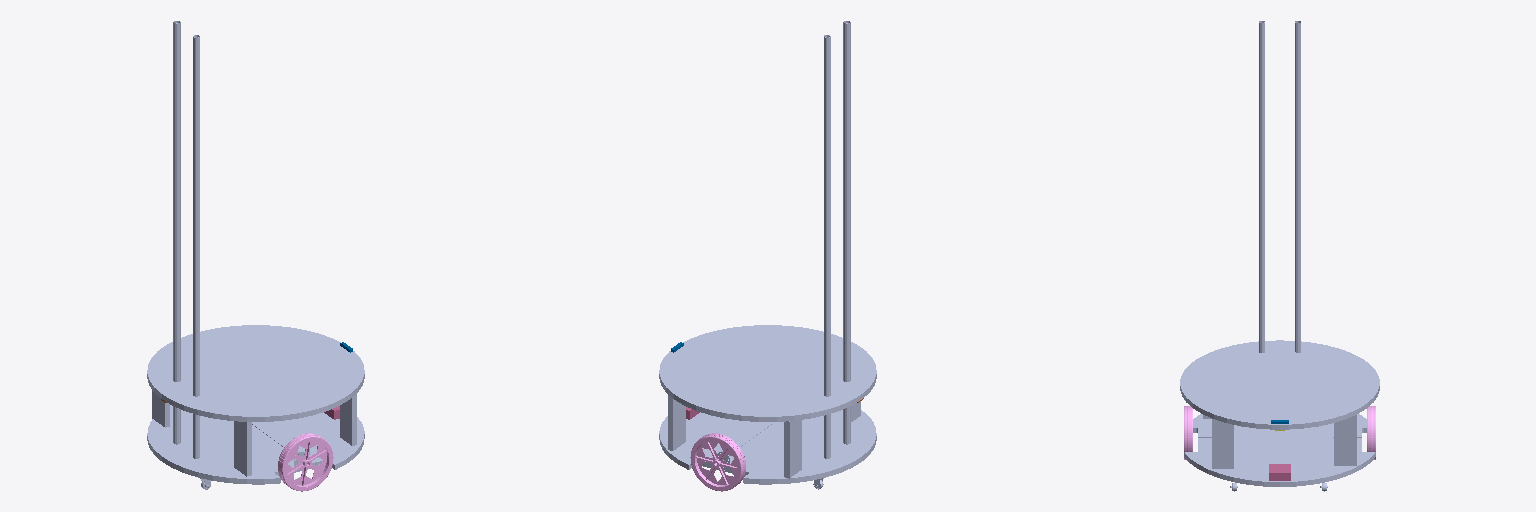
The robot description file, URDF, robot "mobile_rob_dev_sim":
<?xml version="1.0" encoding="utf-8"?>
<!-- This URDF was automatically created by SolidWorks to URDF Exporter! Originally created by [author] ([email redacted]) 
     Commit Version: 1.6.0-4-g7f85cfe  Build Version: 1.6.7995.38578
     For more information, please see http://wiki.ros.org/sw_urdf_exporter -->
<robot name="mobile_rob_dev_sim" xmlns:xacro="http://www.ros.org/wiki/xacro">
  <link
    name="base_link">
    <inertial>
      <origin
        xyz="-0.00461487870734328 0.000366188243899251 0.111305202476825"
        rpy="0 0 0"/>
      <mass
        value="8.01860580709809"/>
      <inertia
        ixx="0.156639319017219"
        ixy="1.11164438093558E-09"
        ixz="-2.73458344436832E-06"
        iyy="0.170503040844609"
        iyz="-3.90039384128734E-13"
        izz="0.273984906364084"/>
    </inertial>
    <visual>
      <origin
        xyz="0 0 0"
        rpy="0 0 0"/>
      <geometry>
        <mesh
          filename="package://mobile_rob_dev_sim/meshes/base_link.STL"/>
      </geometry>
      <material
        name="">
        <color
          rgba="0.792156862745098 0.819607843137255 0.933333333333333 1"/>
      </material>
    </visual>
    <collision>
      <origin
        xyz="0 0 0"
        rpy="0 0 0"/>
      <geometry>
        <mesh
          filename="package://mobile_rob_dev_sim/meshes/base_link.STL"/>
      </geometry>
    </collision>
  </link>
  <link
    name="left_wheel">
    <inertial>
      <origin
        xyz="0 0 0"
        rpy="0 0 0"/>
      <mass
        value="0.211162907036622"/>
      <inertia
        ixx="0.000475634940966531"
        ixy="1.03328518564722E-21"
        ixz="5.23183801417296E-19"
        iyy="0.000931261531604138"
        iyz="4.20387846548917E-21"
        izz="0.000475634940966532"/>
    </inertial>
    <visual>
      <origin
        xyz="0 0 0"
        rpy="0 0 0"/>
      <geometry>
        <mesh
          filename="package://mobile_rob_dev_sim/meshes/left_wheel.STL"/>
      </geometry>
      <material
        name="">
        <color
          rgba="1 0.752941176470588 1 1"/>
      </material>
    </visual>
    <collision>
      <origin
        xyz="0 0 0"
        rpy="0 0 0"/>
      <geometry>
        <mesh
          filename="package://mobile_rob_dev_sim/meshes/left_wheel.STL"/>
      </geometry>
    </collision>
  </link>
  <joint
    name="left_wheel_joint"
    type="continuous">
    <origin
      xyz="0 0.25563 0.035863"
      rpy="0 0 0"/>
    <parent
      link="base_link"/>
    <child
      link="left_wheel"/>
    <axis
      xyz="0 1 0"/>
  </joint>
  <link
    name="right_wheel">
    <inertial>
      <origin
        xyz="1.11022302462516E-16 -1.38777878078145E-17 0"
        rpy="0 0 0"/>
      <mass
        value="0.211162907036622"/>
      <inertia
        ixx="0.000475634940966534"
        ixy="1.38722267285926E-22"
        ixz="6.955139226144E-19"
        iyy="0.000931261531604141"
        iyz="4.2270223968197E-21"
        izz="0.000475634940966533"/>
    </inertial>
    <visual>
      <origin
        xyz="0 0 0"
        rpy="0 0 0"/>
      <geometry>
        <mesh
          filename="package://mobile_rob_dev_sim/meshes/right_wheel.STL"/>
      </geometry>
      <material
        name="">
        <color
          rgba="1 0.752941176470588 1 1"/>
      </material>
    </visual>
    <collision>
      <origin
        xyz="0 0 0"
        rpy="0 0 0"/>
      <geometry>
        <mesh
          filename="package://mobile_rob_dev_sim/meshes/right_wheel.STL"/>
      </geometry>
    </collision>
  </link>
  <joint
    name="right_wheel_joint"
    type="continuous">
    <origin
      xyz="0 -0.25563 0.035863"
      rpy="0 0 0"/>
    <parent
      link="base_link"/>
    <child
      link="right_wheel"/>
    <axis
      xyz="0 1 0"/>
  </joint>
    
  <transmission name="right_wheel_transmission">
  	<type>transmission_interface/SimpleTransmission</type>
  	<joint name="right_wheel_joint">
  		<hardwareInterface>hardware_interface/VelocityJointInterface</hardwareInterface>
  	</joint>
  	<actuator name="right_wheel_actuator">
  		<mecanicalReduction>7</mecanicalReduction>
  		<mecanicalReduction>VelocityJointInterface</mecanicalReduction>
  	</actuator>
  </transmission>
  <transmission name="left_wheel_transmission">
  	<type>transmission_interface/SimpleTransmission</type>
  	<joint name="left_wheel_joint">
  		<hardwareInterface>hardware_interface/VelocityJointInterface</hardwareInterface>
  	</joint>
  	<actuator name="left_wheel_actuator">
  		<mecanicalReduction>7</mecanicalReduction>
  		<mecanicalReduction>VelocityJointInterface</mecanicalReduction>
  	</actuator>
  </transmission>
  <gazebo>
        <plugin name="differential_drive_controller" filename="libgazebo_ros_diff_drive.so">
            <alwaysOn>true</alwaysOn>
            <updateRate>40</updateRate>
            <legacyMode>false</legacyMode>
            <leftJoint>left_wheel_joint</leftJoint>
            <rightJoint>right_wheel_joint</rightJoint>
            <wheelSeparation>0.50</wheelSeparation>
            <wheelDiameter>0.15</wheelDiameter>
            <torque>15</torque>
            <commandTopic>cmd_vel</commandTopic>
            <odometryTopic>odom</odometryTopic>
            <odometryFrame>odom</odometryFrame>
            <robotBaseFrame>base_link</robotBaseFrame>
            <publishWheelTF>false</publishWheelTF>
            <publishWheelJointState>false</publishWheelJointState>
            <rosDebugLevel>na</rosDebugLevel>
            <wheelAcceleration>0</wheelAcceleration>
            <wheelTorque>15</wheelTorque>
            <odometrySource>world</odometrySource>
            <publishOdomTF>true</publishOdomTF>
            <publishTf>1</publishTf>
        </plugin>
  </gazebo>
  
  <!--sonar front base-->
  <link name="base_sonar_front">
    <collision>
      <origin xyz="0 0 0" rpy="0 0 0"/>
      <geometry>
        <box size="0.01 0.03 0.01"/>
      </geometry>
    </collision>
    <visual>
      <origin xyz="0 0 0" rpy="0 0 0"/>
      <geometry>
        <box size="0.01 0.03 0.01"/>
      </geometry>
    </visual>
    <inertial>
      <mass value="1e-5"/>
      <origin xyz="0 0 0" rpy="0 0 0"/>
      <inertia ixx="1e-6" ixy="0" ixz="0" iyy="1e-6" iyz="0"      izz="1e-6"/>
    </inertial>
  </link>

  <joint name="sonar_front_joint" type="fixed">
    <axis xyz="0 1 0"/>
    <origin xyz="0.27 0 0.175" rpy="0 0 0"/>
    <parent link="base_link"/>
    <child link="base_sonar_front"/>
  </joint>
  
  <gazebo reference="base_sonar_front">     
   <sensor type="ray" name="TeraRanger">
      <pose>0 0 0 0 0 0</pose>
      <visualize>true</visualize>
      <update_rate>50</update_rate>
      <ray>
         <scan>
            <horizontal>
               <samples>10</samples>
               <resolution>1</resolution> 
               <min_angle>-0.14835</min_angle>
               <max_angle>0.14835</max_angle>
            </horizontal>
            <vertical>
               <samples>10</samples>
               <resolution>1</resolution> 
               <min_angle>-0.14835</min_angle>
               <max_angle>0.14835</max_angle> 
            </vertical>
         </scan>
         <range>
            <min>0.01</min>
            <max>2</max>
            <resolution>0.02</resolution>
         </range>
      </ray>
      <plugin filename="libgazebo_ros_range.so" name="gazebo_ros_range">
         <gaussianNoise>0.005</gaussianNoise>
         <alwaysOn>true</alwaysOn>
         <updateRate>50</updateRate>
         <topicName>sonar_front</topicName>
         <frameName>base_sonar_front</frameName>
         <!--radiation>INFRARED</radiation-->
         <radiation>ULTRASOUND</radiation>
         <fov>0.2967</fov>
      </plugin>
   </sensor>  
  </gazebo>
  
  <!--base realsense-->
  <link name="base_realsense">
    <collision>
      <origin xyz="0 0 0" rpy="0 0 0"/>
      <geometry>
        <box size="0.01 0.05 0.01"/>
      </geometry>
    </collision>
    <visual>
      <origin xyz="0 0 0" rpy="0 0 0"/>
      <geometry>
        <box size="0.01 0.05 0.01"/>
      </geometry>
    </visual>
    <inertial>
      <mass value="1e-5"/>
      <origin xyz="0 0 0" rpy="0 0 0"/>
      <inertia ixx="1e-6" ixy="0" ixz="0" iyy="1e-6" iyz="0"      izz="1e-6"/>
    </inertial>
  </link>

  <joint name="camera_joint" type="fixed">
    <axis xyz="0 1 0"/>
    <origin xyz="0.27 0 0.195" rpy="0 0 0"/>
    <parent link="base_link"/>
    <child link="base_realsense"/>
  </joint>
  
  <gazebo reference="base_realsense">
  <sensor name="realsense_camera" type="depth">
    <update_rate>20</update_rate>
    <camera>
      <horizontal_fov>1.047198</horizontal_fov>
      <image>
        <width>640</width>
        <height>480</height>
        <format>R8G8B8</format>
      </image>
      <clip>
        <near>0.05</near>
        <far>3</far>
      </clip>
    </camera>
    <plugin name="base_realsense_controller" filename="libgazebo_ros_openni_kinect.so">
      <baseline>0.2</baseline>
      <alwaysOn>true</alwaysOn>
      <updateRate>1.0</updateRate>
      <cameraName>camera_ir</cameraName>
      <imageTopicName>/camera/color/image_raw</imageTopicName>
      <cameraInfoTopicName>/camera/color/camera_info</cameraInfoTopicName>
      <depthImageTopicName>/camera/depth/image_raw</depthImageTopicName>
      <depthImageInfoTopicName>/camera/depth/camera_info</depthImageInfoTopicName>
      <pointCloudTopicName>/camera/depth/points</pointCloudTopicName>
      <frameName>frame</frameName>
      <pointCloudCutoff>0.5</pointCloudCutoff>
      <pointCloudCutoffMax>3.0</pointCloudCutoffMax>
      <distortionK1>0.00000001</distortionK1>
      <distortionK2>0.00000001</distortionK2>
      <distortionK3>0.00000001</distortionK3>
      <distortionT1>0.00000001</distortionT1>
      <distortionT2>0.00000001</distortionT2>
      <CxPrime>0</CxPrime>
      <Cx>0</Cx>
      <Cy>0</Cy>
      <focalLength>0</focalLength>
      <hackBaseline>0</hackBaseline>
    </plugin>
  </sensor>
  </gazebo>
  <!--
  <xacro:include filename="$(find realsense2_description)/urdf/_d435.urdf.xacro"/>
	<sensor_d435 parent="base_link">

  </sensor_d435>
  -->
  <!--sonar back base-->
    <link name="base_sonar_back">
    <collision>
      <origin xyz="0 0 0" rpy="0 0 0"/>
      <geometry>
        <box size="0.01 0.03 0.01"/>
      </geometry>
    </collision>
    <visual>
      <origin xyz="0 0 0" rpy="0 0 0"/>
      <geometry>
        <box size="0.01 0.03 0.01"/>
      </geometry>
    </visual>
    <inertial>
      <mass value="1e-5"/>
      <origin xyz="0 0 0" rpy="0 0 0"/>
      <inertia ixx="1e-6" ixy="0" ixz="0" iyy="1e-6" iyz="0"      izz="1e-6"/>
    </inertial>
  </link>

  <joint name="sonar_back_joint" type="fixed">
    <axis xyz="0 1 0"/>
    <origin xyz="-0.27 0 0.175" rpy="0 0 3.14"/>
    <parent link="base_link"/>
    <child link="base_sonar_back"/>
  </joint>   
  
    <gazebo reference="base_sonar_back">     
   <sensor type="ray" name="TeraRanger">
      <pose>0 0 0 0 0 0</pose>
      <visualize>true</visualize>
      <update_rate>50</update_rate>
      <ray>
         <scan>
            <horizontal>
               <samples>10</samples>
               <resolution>1</resolution> 
               <min_angle>-0.14835</min_angle>
               <max_angle>0.14835</max_angle>
            </horizontal>
            <vertical>
               <samples>10</samples>
               <resolution>1</resolution> 
               <min_angle>-0.14835</min_angle>
               <max_angle>0.14835</max_angle> 
            </vertical>
         </scan>
         <range>
            <min>0.01</min>
            <max>2</max>
            <resolution>0.02</resolution>
         </range>
      </ray>
      <plugin filename="libgazebo_ros_range.so" name="gazebo_ros_range">
         <gaussianNoise>0.005</gaussianNoise>
         <alwaysOn>true</alwaysOn>
         <updateRate>50</updateRate>
         <topicName>sonar_back</topicName>
         <frameName>base_sonar_back</frameName>
         <!--radiation>INFRARED</radiation-->
         <radiation>ULTRASOUND</radiation>
         <fov>0.2967</fov>
      </plugin>
   </sensor>  
  </gazebo>
  
  <!--rplidar_base-->
    <link name="base_rplidar">
    <collision>
      <origin xyz="0 0 0" rpy="0 0 0"/>
      <geometry>
        <box size="0.06 0.06 0.03"/>
      </geometry>
    </collision>
    <visual>
      <origin xyz="0 0 0" rpy="0 0 0"/>
      <geometry>
        <box size="0.06 0.06 0.03"/>
      </geometry>
    </visual>
    <inertial>
      <mass value="1e-5"/>
      <origin xyz="0 0 0" rpy="0 0 0"/>
      <inertia ixx="1e-6" ixy="0" ixz="0" iyy="1e-6" iyz="0"      izz="1e-6"/>
    </inertial>
  </link>

  <joint name="rplidar_joint" type="fixed">
    <axis xyz="0 1 0"/>
    <origin rpy="0 0 0" xyz="0.245 0 0.026"/>
    <parent link="base_link"/>
    <child link="base_rplidar"/>
  </joint>  
  
  <gazebo reference="base_rplidar">
    <sensor type="ray" name="head_hokuyo_sensor">
      <pose>0.245 0 0.026 0 0 0</pose>
      <visualize>false</visualize>
      <update_rate>40</update_rate>
      <ray>
        <scan>
          <horizontal>
            <samples>720</samples>
            <resolution>1</resolution>
            <min_angle>-1.570796</min_angle>
            <max_angle>1.570796</max_angle>
          </horizontal>
        </scan>
        <range>
          <min>0.10</min>
          <max>30.0</max>
          <resolution>0.01</resolution>
        </range>
        <noise>
          <type>gaussian</type>
          <!-- Noise parameters based on published spec for Hokuyo laser
               achieving "+-30mm" accuracy at range < 10m.  A mean of 0.0m and
               stddev of 0.01m will put 99.7% of samples within 0.03m of the true
               reading. -->
          <mean>0.0</mean>
          <stddev>0.01</stddev>
        </noise>
      </ray>
      <plugin name="gazebo_ros_head_hokuyo_controller" filename="libgazebo_ros_laser.so">
        <topicName>/scan</topicName>
        <frameName>laser</frameName>
      </plugin>
    </sensor>
  </gazebo> 
</robot>

--- What the picture shows (computed from the rendered views, not written in the file) ---
Views: 3 orthographic renders of the robot side by side, from view 1: azimuth 30°, elevation 25°; view 2: azimuth 150°, elevation 25°; view 3: azimuth 270°, elevation 25°.
Robot: mobile_rob_dev_sim — 7 links, 6 joints (2 continuous, 4 fixed); root link base_link; default pose: every joint at zero.
Links seen in each view (by area): view 1: base_link, right_wheel; view 2: base_link, left_wheel; view 3: base_link.
Link boxes in pixels (box(x1,y1,x2,y2)): base_link: box(147, 21, 364, 489); right_wheel: box(278, 433, 333, 491); base_link: box(659, 21, 876, 489); left_wheel: box(690, 433, 745, 491); base_link: box(1180, 21, 1379, 491).
Bounding box of the posed robot: 0.56 × 0.5595 × 1.25 m (x, y, z).
Meshes: 3 distinct files referenced, 3 mesh visuals loaded (3 binary STL).
